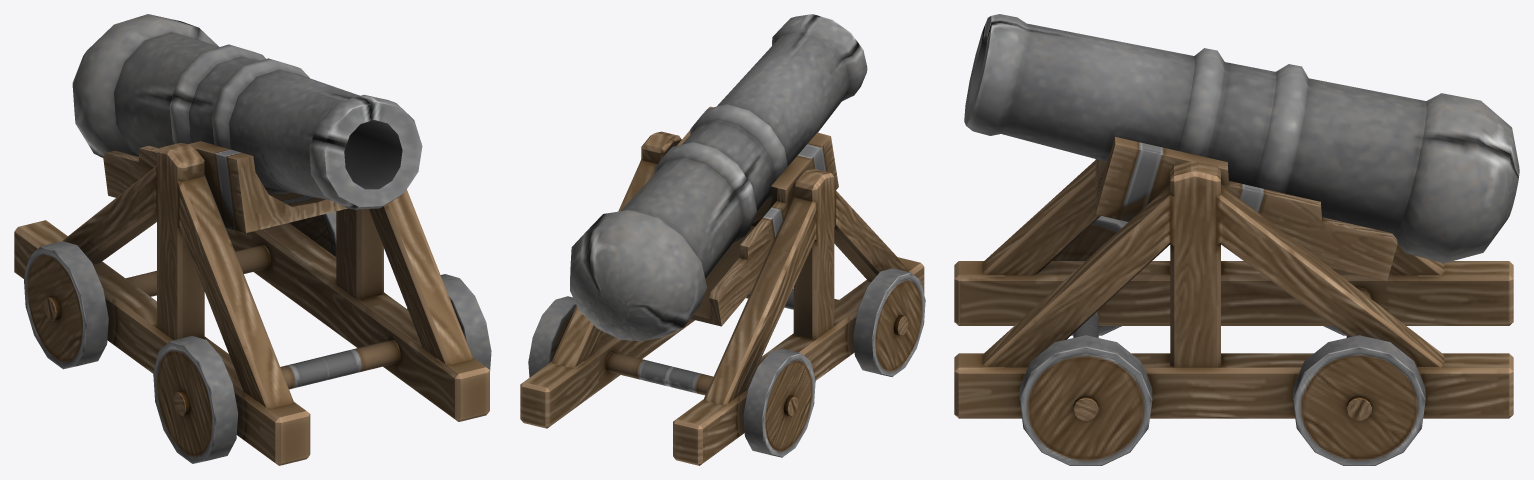
The model's file is cannon_model.FBX.
3 views of the same model, side by side, from view 1: azimuth 30°, elevation 25°; view 2: azimuth 150°, elevation 25°; view 3: azimuth 270°, elevation 25° (orthographic). The views are drawn at different scales.
Parts seen in each view (by area): view 1: cannon_model; view 2: cannon_model; view 3: cannon_model.
Part boxes in pixels (left/top/right/bottom): cannon_model: left=14, top=14, right=491, bottom=465; cannon_model: left=520, top=14, right=925, bottom=465; cannon_model: left=954, top=14, right=1519, bottom=465.
Bounding box in the file's own units: 0.7275 × 0.8628 × 1.18.
